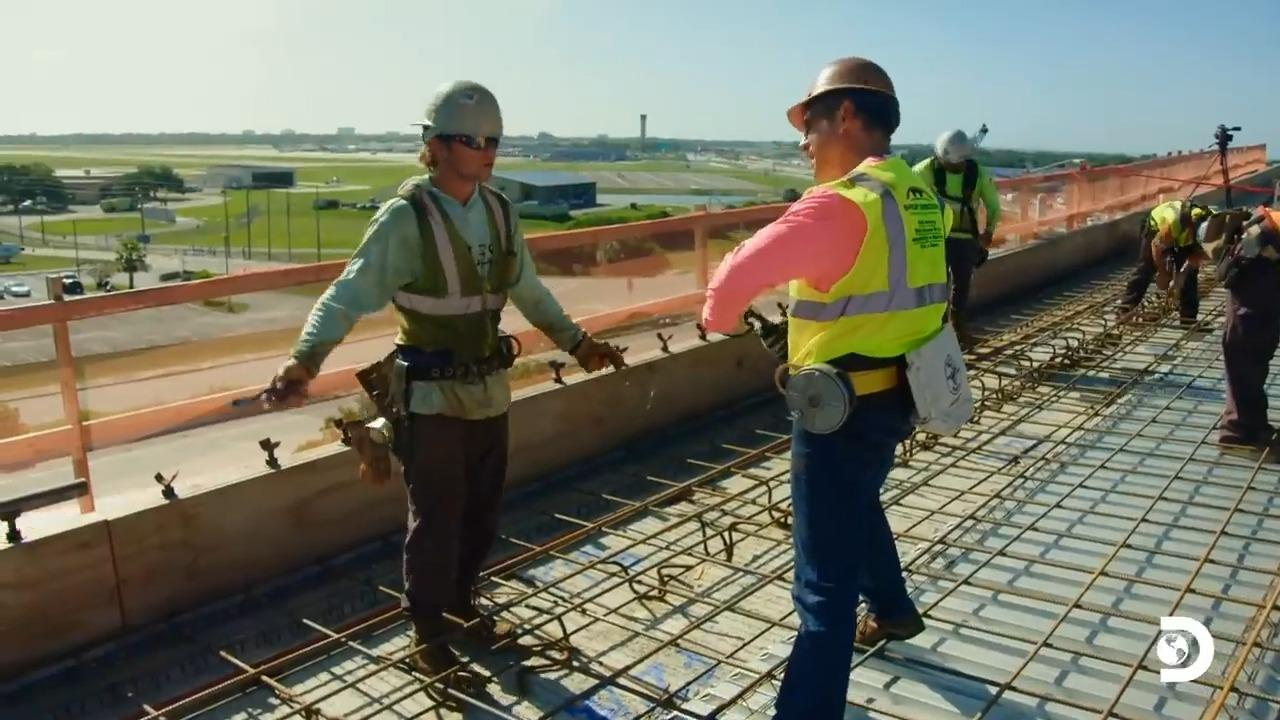Gloves: (259, 355, 326, 408), (573, 327, 620, 377), (977, 226, 995, 248)
Helmet: (786, 56, 900, 130), (411, 79, 503, 141), (934, 128, 972, 164)
Person: (265, 78, 629, 677), (698, 55, 954, 719), (910, 128, 1002, 353), (1138, 195, 1219, 333)
Safety Boot: (411, 631, 471, 702), (847, 599, 926, 645)
Safety Vest: (808, 184, 938, 347), (404, 198, 512, 355), (938, 168, 978, 232), (1152, 203, 1200, 245)
